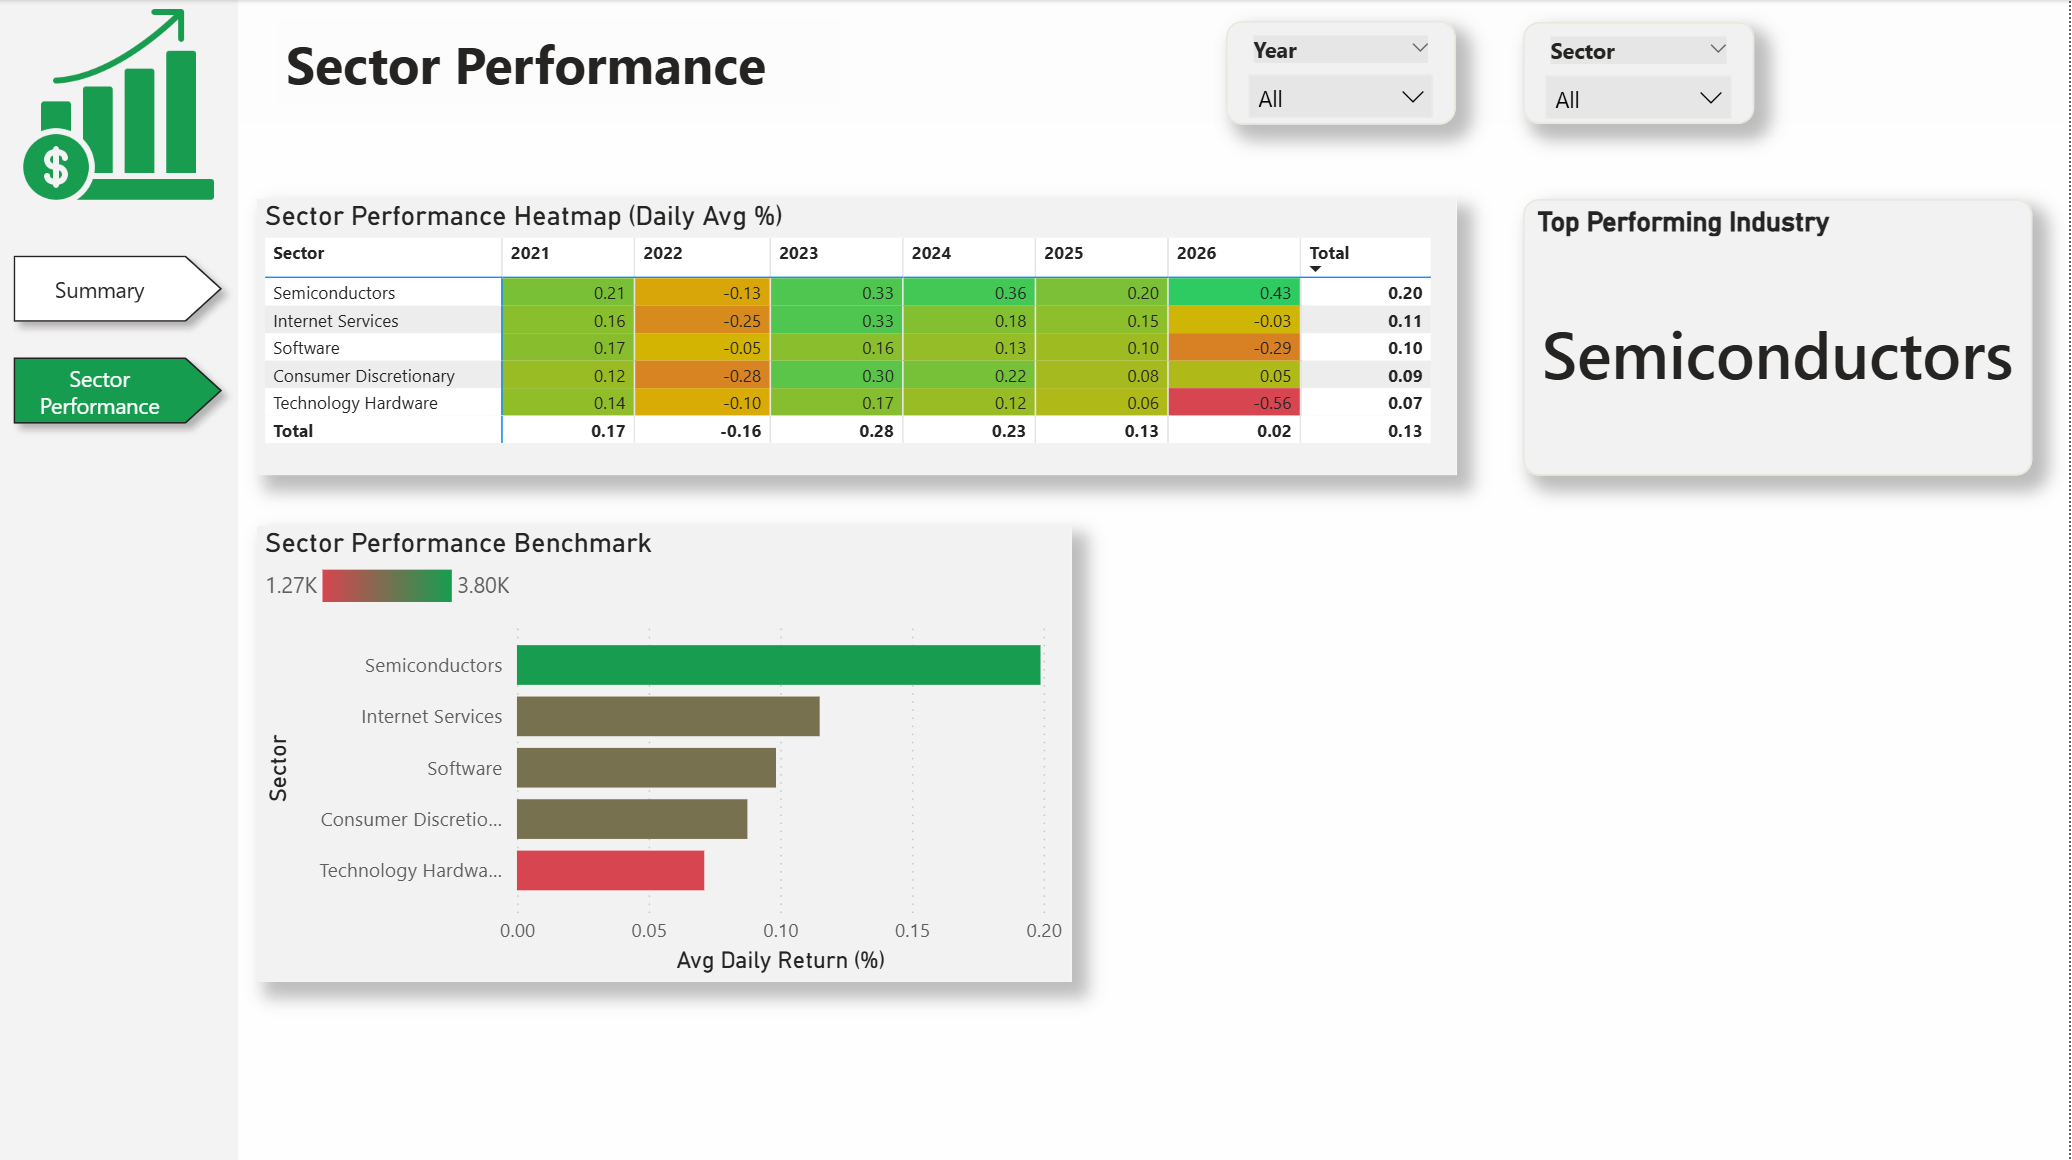

Layout of this report page (visuals, bound fields, positions):
{"tool":"powerbi","page":{"name":"Sector Performance","canvas":[1280,720],"ordinal":1},"visuals":[{"type":"shape","box":[0,0,147.9,719.6],"z":0},{"type":"image","box":[0,5.8,147.8,117.5],"z":1000},{"type":"pageNavigator","box":[0,149.1,147.8,123.7],"z":2000},{"type":"shape","box":[147.9,0,1132.1,76.6],"z":3000},{"type":"textbox","box":[172.6,12,347.2,52.6],"z":4000},{"type":"slicer","fields":{"Values":["Calendar.Year"]},"box":[759,13,142.3,63.7],"z":5000},{"type":"pivotTable","title":"Sector Performance Heatmap (Daily Avg %)","fields":{"Rows":["public v_stock_analysis.sector"],"Values":["Avg(public v_stock_analysis.daily_return_pct)"],"Columns":["Calendar.Time Intelligence.Year","Calendar.Time Intelligence.Quarter","Calendar.Time Intelligence.Month"]},"box":[159.6,123.1,741.6,171.3],"z":6000},{"type":"clusteredBarChart","title":"Sector Performance Benchmark","fields":{"Category":["public v_stock_analysis.sector"],"Y":["Avg(public v_stock_analysis.daily_return_pct)"]},"box":[159.6,325.4,503.5,282.1],"z":7000},{"type":"card","title":"Top Performing Industry","fields":{"Values":["public v_stock_analysis.Top Performing Sector"]},"box":[942.7,123.1,314.8,171.3],"z":8000},{"type":"slicer","fields":{"Values":["public v_stock_analysis.sector"]},"box":[942.7,13.6,142.9,63.1],"z":10000}]}

Visuals, with their boxes in screenshot pixels (x1, y1, x2, y2), scaled from the page's 1280x720 canvas onto the 2072x1160 screenshot:
shape: l=0, t=0, r=239, b=1159
image: l=0, t=9, r=239, b=199
pageNavigator: l=0, t=240, r=239, b=440
shape: l=239, t=0, r=2071, b=123
textbox: l=279, t=19, r=841, b=104
slicer - Calendar.Year: l=1229, t=21, r=1459, b=124
"Sector Performance Heatmap (Daily Avg %)" pivotTable: l=258, t=198, r=1459, b=474
"Sector Performance Benchmark" clusteredBarChart: l=258, t=524, r=1073, b=979
"Top Performing Industry" card: l=1526, t=198, r=2036, b=474
slicer - public v_stock_analysis.sector: l=1526, t=22, r=1757, b=124
